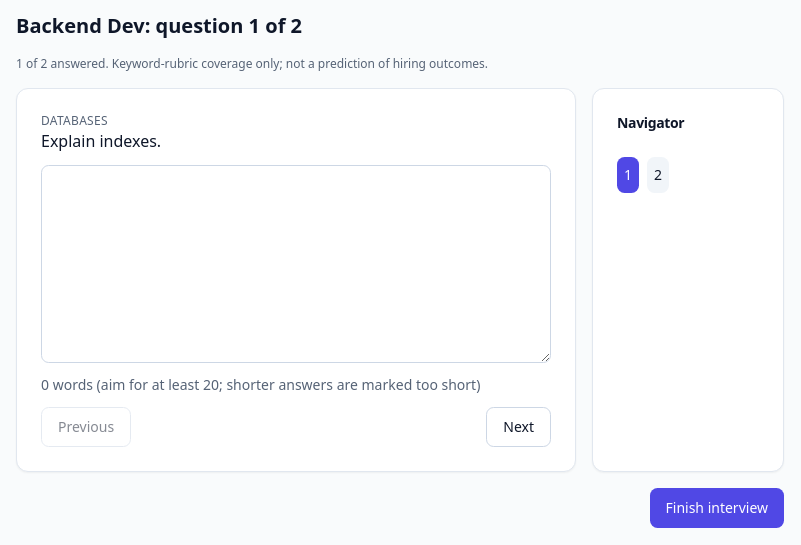
Scenario: InterviewSessionPage › navigates between questions
Expected: the text box labelled "Explain indexes." is shown, [41, 165, 551, 363]
Click the button named "Go to question 2": point(658, 175) [647, 157, 669, 193]
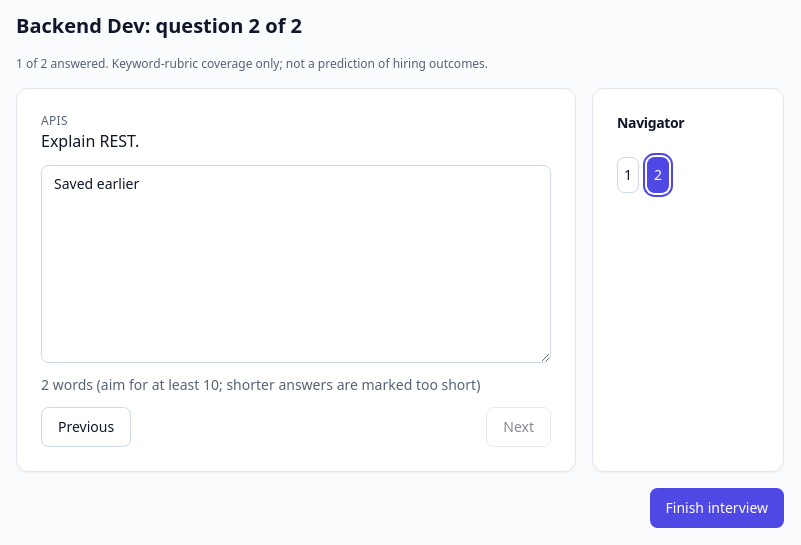
Now the text box labelled "Explain REST." holds "Saved earlier", box [41, 165, 551, 363]
